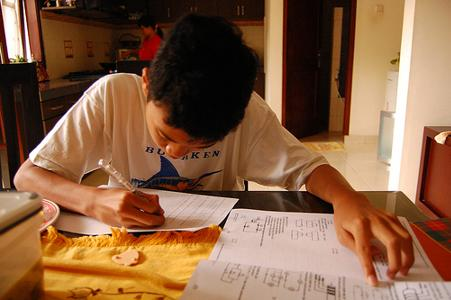person: (14, 16, 416, 284)
